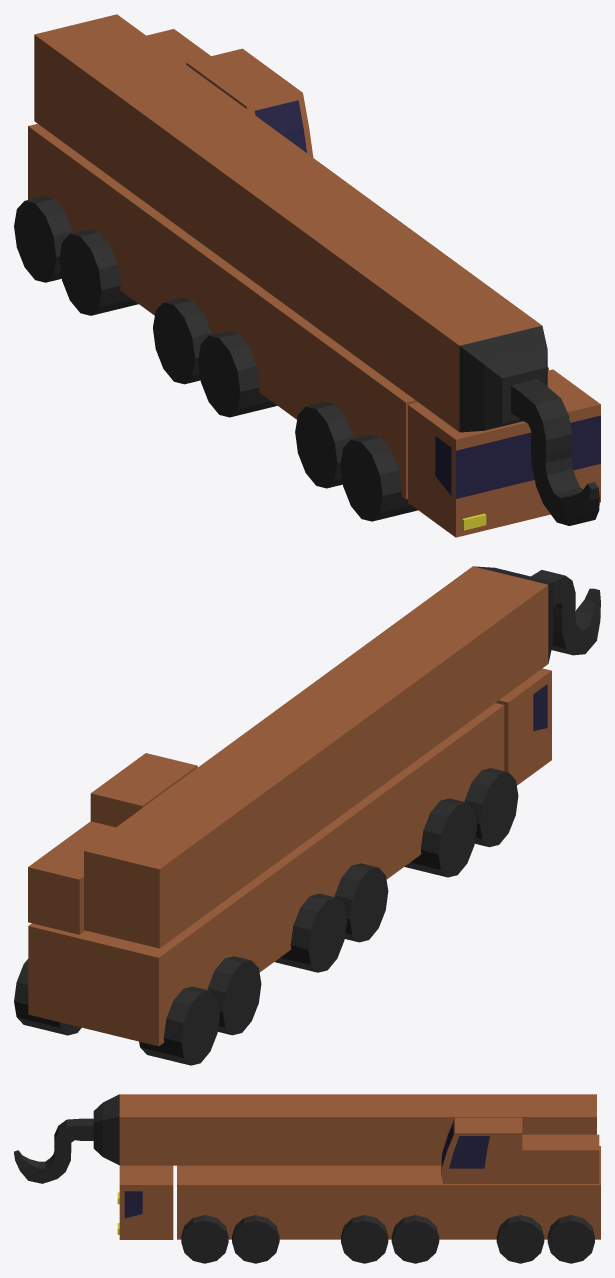
The model's file is Kran.glb.
The picture shows the model from 3 angles, top to bottom: view 1: azimuth 30°, elevation 25°; view 2: azimuth 150°, elevation 25°; view 3: azimuth 270°, elevation 25°; orthographic projection. The views are drawn at different scales.
Visible parts, largest first — view 1: Cube.004, Cube.005; view 2: Cube.005, Cube.004; view 3: Cube.005, Cube.004.
Part boxes in pixels (<box>): Cube.004: <box>34,14,599,525</box>; Cube.005: <box>14,29,600,537</box>; Cube.005: <box>14,668,551,1065</box>; Cube.004: <box>84,566,600,948</box>; Cube.005: <box>117,1117,600,1263</box>; Cube.004: <box>14,1094,596,1183</box>.
Bounding box in the file's own units: 4.42 × 5.16 × 21.88.
